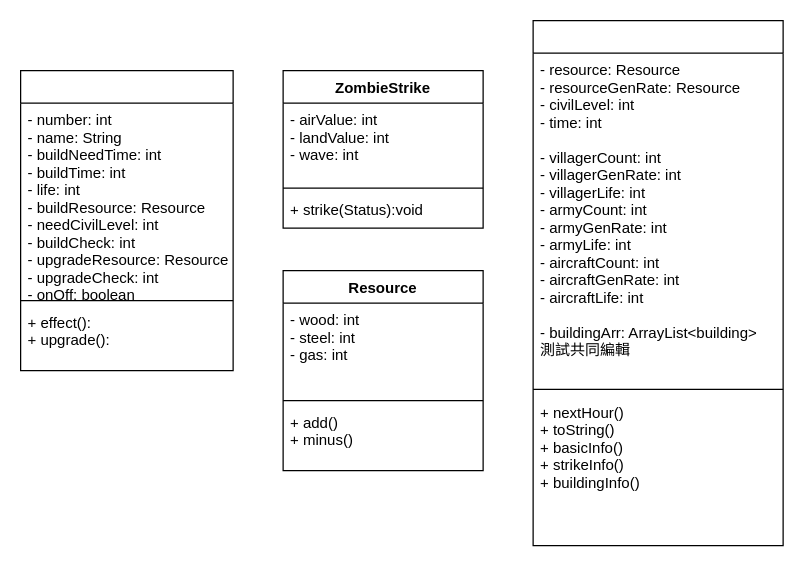
The diagram is 804 pixels wide and 566 high, and some of its shapes have lost their labels. Here are the shapes that lost their labels. From the top down, the box of each, then its label:
(19, 69, 233, 371): Building
(532, 19, 783, 546): Status
